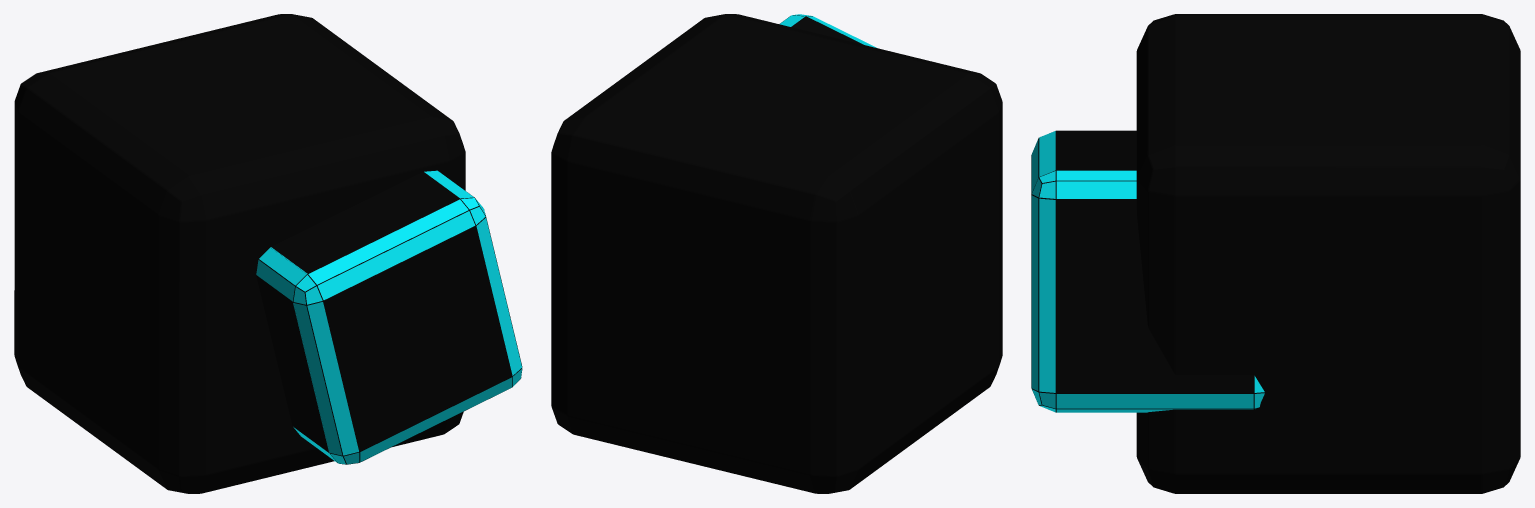
Rendered from bomb.fbx.
3 renders of one model, left to right at view 1: azimuth 30°, elevation 25°; view 2: azimuth 150°, elevation 25°; view 3: azimuth 270°, elevation 25°, orthographic. The views are drawn at different scales.
Visible parts, largest first — view 1: pasted__pasted__pasted__pasted__pasted__pasted__pasted__past (×2); view 2: pasted__pasted__pasted__pasted__pasted__pasted__pasted__past (×2); view 3: pasted__pasted__pasted__pasted__pasted__pasted__pasted__past (×2).
Part boxes in pixels (x1,y1,x2,y2): pasted__pasted__pasted__pasted__pasted__pasted__pasted__past (×2): (14, 14, 522, 493); pasted__pasted__pasted__pasted__pasted__pasted__pasted__past (×2): (551, 14, 1002, 493); pasted__pasted__pasted__pasted__pasted__pasted__pasted__past (×2): (1031, 14, 1520, 493).
Bounding box in the file's own units: 1.06 × 1.05 × 1.34.
